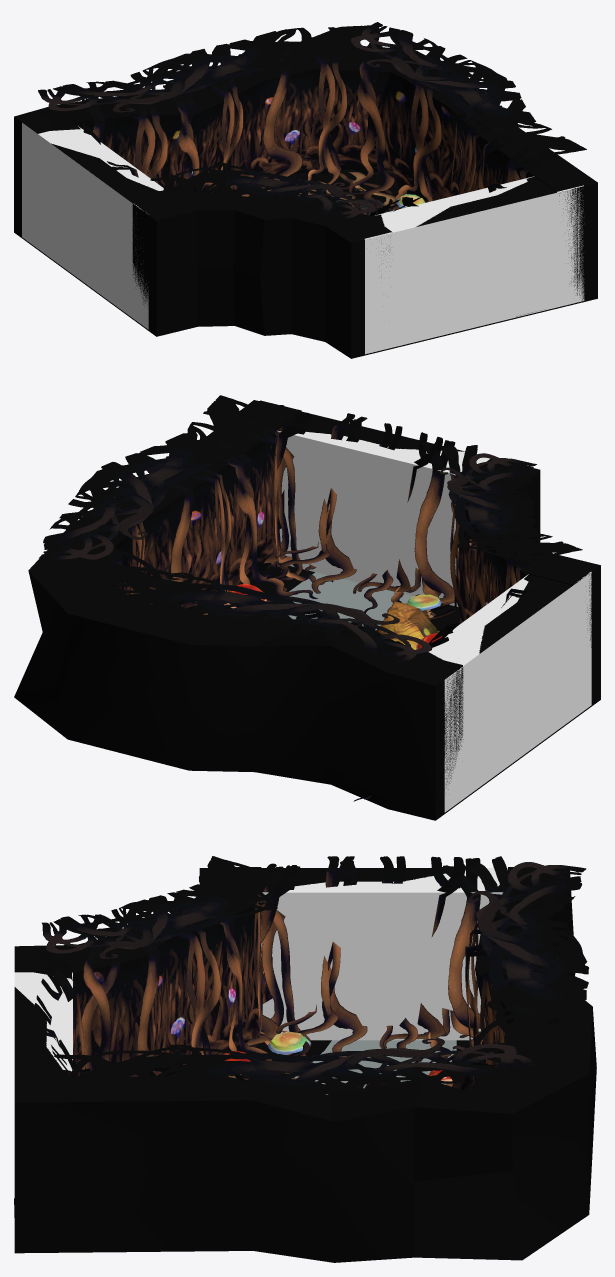
Rendered from Dungeon_021_RoadL_003.fbx.
3 renders of one model, top to bottom at view 1: azimuth 30°, elevation 25°; view 2: azimuth 150°, elevation 25°; view 3: azimuth 270°, elevation 25°, orthographic. The views are drawn at different scales.
Visible parts, largest first — view 1: Dan1, DoorWay_NavMask (1) (×2), Dungeon_021_Tsuta_002, Dungeon_021_Tsuta_001, un_021_Door_002 (×2), DoorWay_NavMask (×2), Dan1_shadow, Dungeon_021_Tsuta_003; view 2: Dan1, Dungeon_021_Tsuta_002, DoorWay_NavMask (×2), DoorWay_NavMask (1), un_021_Door_002_Object1, Dungeon_021_Tsuta_001, un_021_Door_002 (×2), Quad_Nav_SP (3), Dungeon_011_Object_012, Dan1_shadow; view 3: Dan1, Dungeon_021_Tsuta_002, DoorWay_NavMask (×2), un_021_Door_002_Object1 (×2), Dungeon_021_Tsuta_001, un_021_Door_002 (×2), Quad_Nav_SP (4), DoorWay_NavMask (1), Dan1_shadow, Kinoko03.
Boxes of the visible parts, <box> form: Dan1: <box>14,46,597,358</box>; DoorWay_NavMask (1) (×2): <box>22,122,584,354</box>; Dungeon_021_Tsuta_002: <box>38,22,586,222</box>; Dungeon_021_Tsuta_001: <box>82,44,555,215</box>; un_021_Door_002 (×2): <box>17,113,592,348</box>; DoorWay_NavMask (×2): <box>38,126,534,231</box>; Dan1_shadow: <box>261,173,532,316</box>; Dungeon_021_Tsuta_003: <box>261,171,397,214</box>; Dan1: <box>14,400,600,820</box>; Dungeon_021_Tsuta_002: <box>39,395,582,666</box>; DoorWay_NavMask (×2): <box>276,430,528,665</box>; DoorWay_NavMask (1): <box>436,572,591,812</box>; un_021_Door_002_Object1: <box>259,411,477,615</box>; Dungeon_021_Tsuta_001: <box>80,408,549,648</box>; un_021_Door_002 (×2): <box>243,400,596,800</box>; Quad_Nav_SP (3): <box>288,572,413,630</box>; Dungeon_011_Object_012: <box>376,601,438,649</box>; Dan1_shadow: <box>223,564,460,630</box>; Dan1: <box>14,868,596,1262</box>; Dungeon_021_Tsuta_002: <box>42,856,589,1095</box>; DoorWay_NavMask (×2): <box>15,868,507,1071</box>; un_021_Door_002_Object1 (×2): <box>26,856,509,1074</box>; Dungeon_021_Tsuta_001: <box>80,867,561,1089</box>; un_021_Door_002 (×2): <box>14,867,561,1097</box>; Quad_Nav_SP (4): <box>312,1040,456,1094</box>; DoorWay_NavMask (1): <box>14,972,55,1059</box>; Dan1_shadow: <box>14,1040,484,1217</box>; Kinoko03: <box>267,1031,311,1055</box>.
Size of what is drawn, in the model's own units: 7.27 by 2.36 by 7.14.
